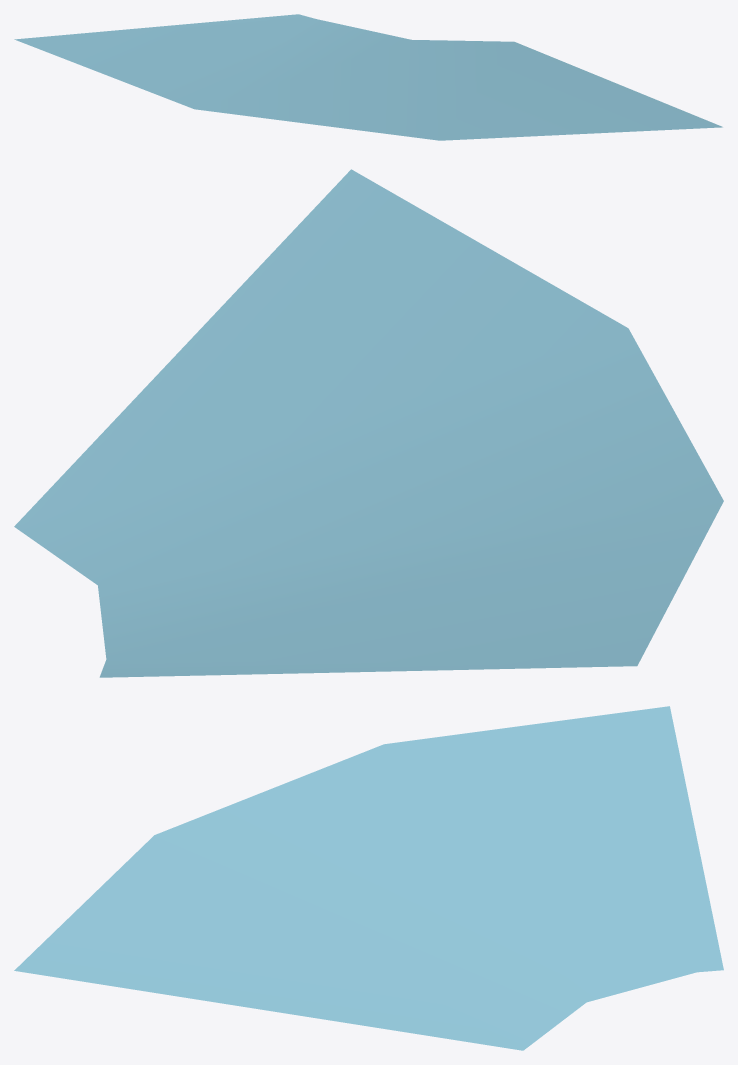
Rendered from ControlMatCornerOpposite.FBX.
3 renders of one model, top to bottom at view 1: azimuth 30°, elevation 25°; view 2: azimuth 150°, elevation 25°; view 3: azimuth 270°, elevation 25°, orthographic. The views are drawn at different scales.
Parts seen in each view (by area): view 1: ConsoleMatCornerOpposite; view 2: ConsoleMatCornerOpposite; view 3: ConsoleMatCornerOpposite.
Part boxes in pixels (x1,y1,x2,y2): ConsoleMatCornerOpposite: (14, 14, 722, 140); ConsoleMatCornerOpposite: (14, 169, 723, 677); ConsoleMatCornerOpposite: (14, 706, 723, 1050).
Size of the model in its own units: 0.52 by 0.0742 by 0.5896.
